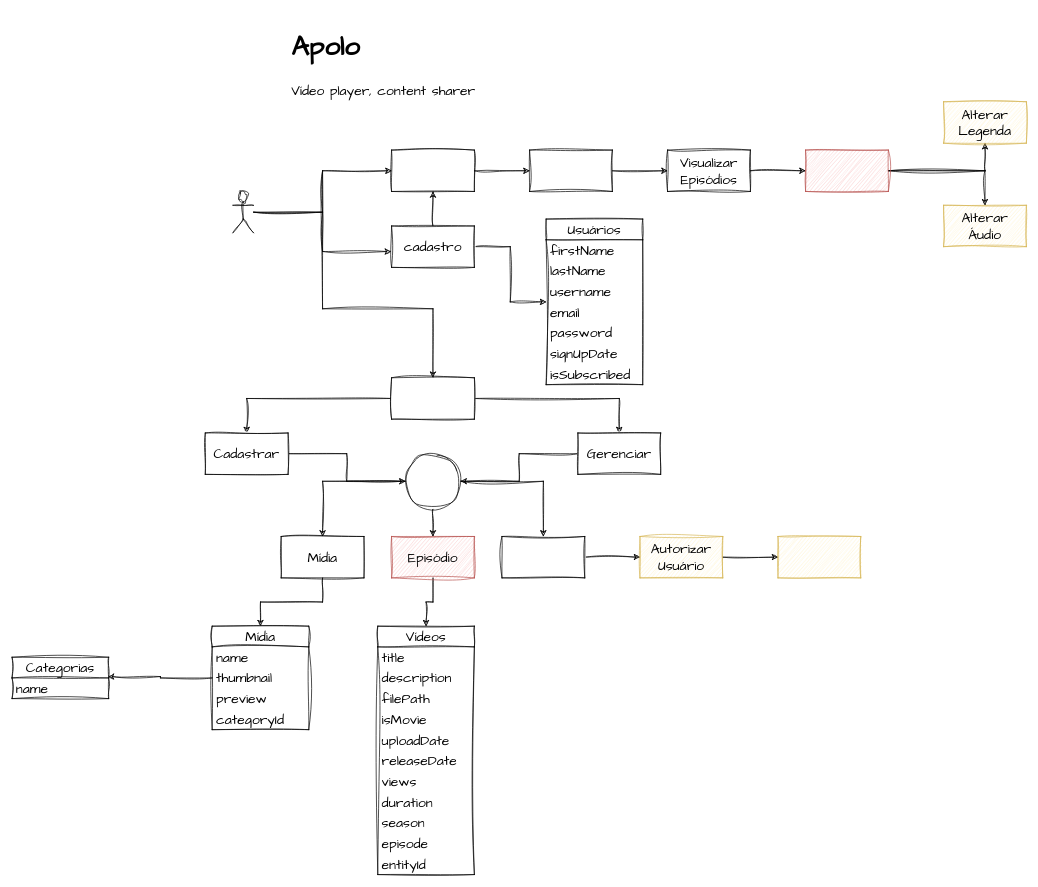
Image size: 1038x887. Some labels were removed from this diagram. The shapes that lost their labels are listed below. From the top down, each one's centre as x and y in pixels, then its label:
At (432,170): "login".
At (570,170): "Visualizar Mídias".
At (846,170): "Assistir Episódio".
At (243,212): "Actor".
At (432,398): "admin".
At (543,557): "Usuário".
At (819,557): "Permissões Usuários".
